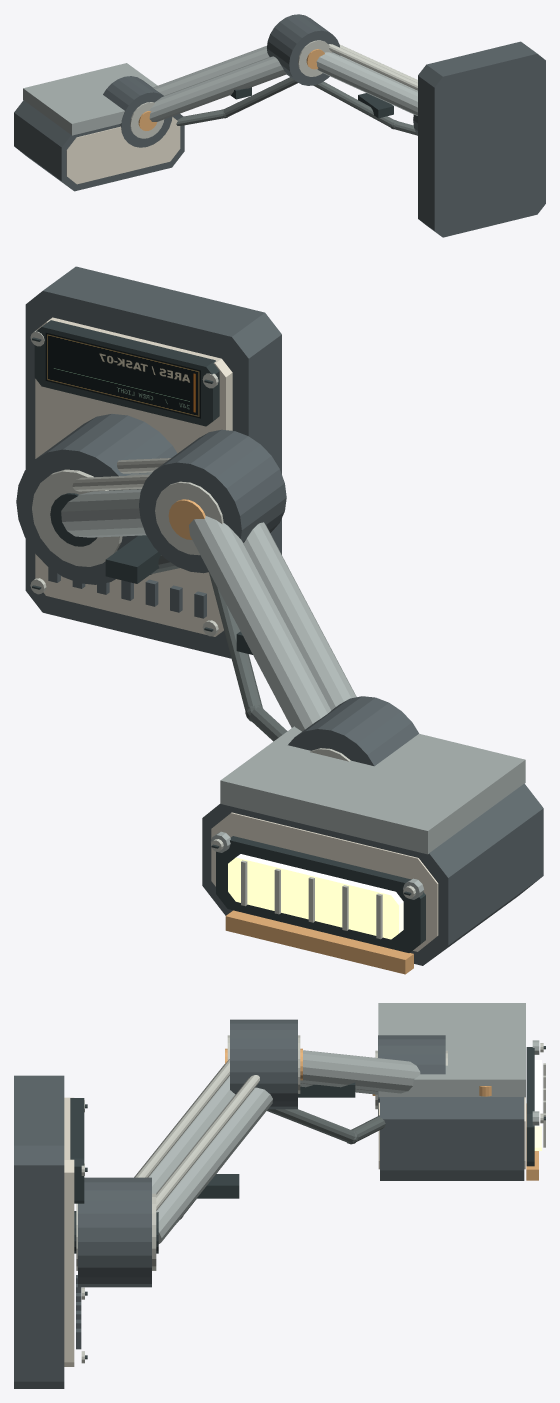
File: task_light_retro.glb
3 views of the same model, one above another, from view 1: azimuth 30°, elevation 25°; view 2: azimuth 150°, elevation 25°; view 3: azimuth 270°, elevation 25° (orthographic). The views are drawn at different scales.
Visible parts, largest first — view 1: static__graphite, Arm_Assembly__steel, Lamp_Head__steel, Arm_Assembly__graphite, Lamp_Head__cream, Lamp_Head__graphite, Arm_Assembly__rubber, Arm_Assembly__satinsteel, Arm_Assembly__deep, Arm_Assembly__ochre; view 2: static__graphite, Lamp_Head__steel, Arm_Assembly__steel, Arm_Assembly__graphite, Lamp_Head__graphite, static__cream, Root_Pivot__graphite, static__task_nameplate, Lamp_Emitter__lamp, Lamp_Head__deep, Lamp_Head__cream, static__deep (+8 smaller); view 3: static__graphite, Lamp_Head__graphite, Lamp_Head__steel, Arm_Assembly__steel, Root_Pivot__graphite, Arm_Assembly__graphite, Arm_Assembly__satinsteel, static__cream, Arm_Assembly__rubber, Arm_Assembly__deep, static__deep, Lamp_Head__deep (+3 smaller).
Part boxes in pixels (box(x1,y1,x2,y2)): static__graphite: box(418, 41, 545, 237); Arm_Assembly__steel: box(149, 46, 417, 121); Lamp_Head__steel: box(23, 63, 157, 135); Arm_Assembly__graphite: box(103, 14, 339, 147); Lamp_Head__cream: box(66, 117, 180, 184); Lamp_Head__graphite: box(14, 100, 184, 191); Arm_Assembly__rubber: box(176, 77, 417, 135); Arm_Assembly__satinsteel: box(130, 40, 417, 138); Arm_Assembly__deep: box(230, 87, 393, 118); Arm_Assembly__ochre: box(138, 49, 324, 130); static__graphite: box(25, 266, 281, 658); Lamp_Head__steel: box(211, 726, 525, 899); Arm_Assembly__steel: box(61, 473, 356, 731); Arm_Assembly__graphite: box(139, 429, 418, 766); Lamp_Head__graphite: box(202, 783, 543, 965); static__cream: box(35, 317, 232, 636); Root_Pivot__graphite: box(16, 414, 177, 584); static__task_nameplate: box(45, 332, 200, 418); Lamp_Emitter__lamp: box(228, 854, 403, 939); Lamp_Head__deep: box(211, 836, 425, 952); Lamp_Head__cream: box(211, 812, 438, 951); static__deep: box(32, 320, 219, 631); static__graphite: box(14, 1075, 81, 1388); Lamp_Head__graphite: box(380, 1097, 524, 1180); Lamp_Head__steel: box(378, 1003, 539, 1125); Arm_Assembly__steel: box(134, 1050, 420, 1243); Root_Pivot__graphite: box(78, 1177, 151, 1287); Arm_Assembly__graphite: box(230, 1019, 445, 1115); Arm_Assembly__satinsteel: box(135, 1035, 447, 1210); static__cream: box(64, 1097, 74, 1366); Arm_Assembly__rubber: box(177, 1109, 385, 1222); Arm_Assembly__deep: box(197, 1082, 355, 1198); static__deep: box(70, 1098, 87, 1359); Lamp_Head__deep: box(526, 1046, 545, 1166).
Size of the model in its own units: 0.945 by 0.417 by 0.7925.
9 materials, 1 textured.
